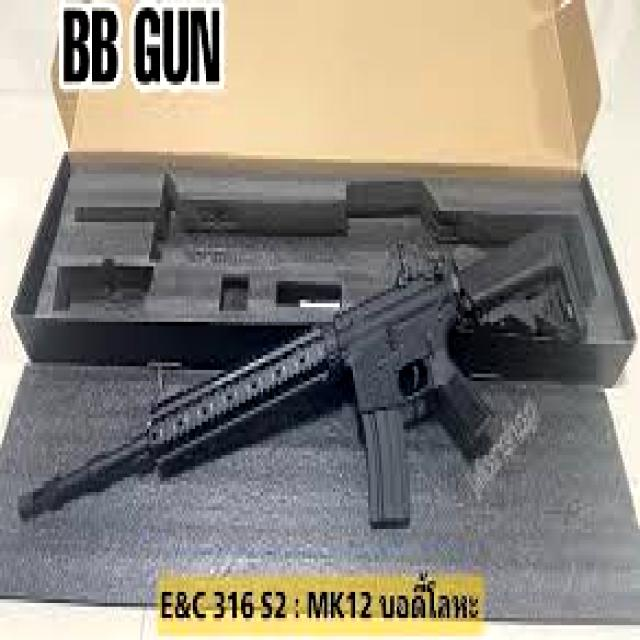m16: (11, 238, 616, 573)
